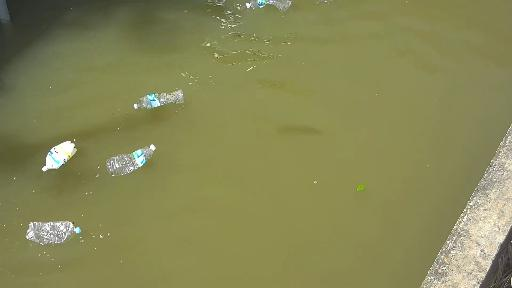leaf: (349, 178, 371, 197)
plastic: (115, 77, 198, 120), (37, 123, 87, 177), (99, 142, 168, 178), (15, 215, 91, 243), (214, 0, 300, 22)
